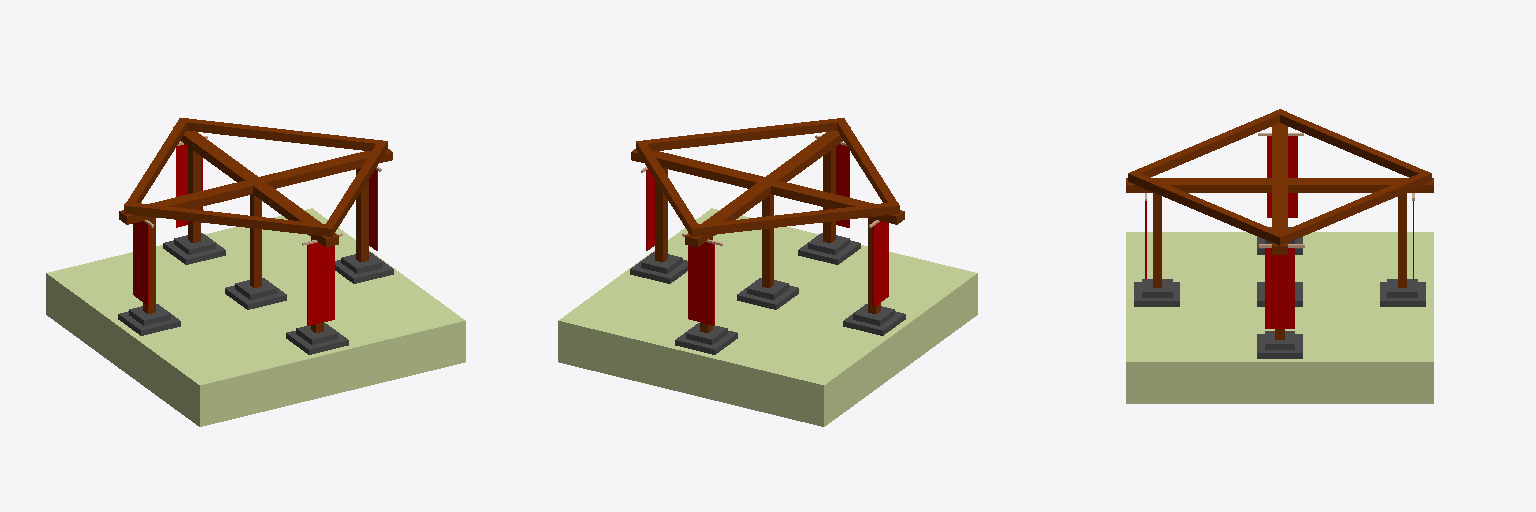
Rendered from Market.obj.
3 renders of one model, left to right at view 1: azimuth 30°, elevation 25°; view 2: azimuth 150°, elevation 25°; view 3: azimuth 270°, elevation 25°, orthographic.
Visible parts, largest first — view 1: Tilebase104, Box667, Box666, Box669, Box668, Box678, Box671, Box670, Box676, Box662, Box661, Box664 (+9 smaller); view 2: Tilebase104, Box667, Box666, Box670, Box671, Box672, Box676, Box668, Box669, Box662, Box661, Box665 (+8 smaller); view 3: Tilebase104, Box666, Box674, Box671, Box668, Box669, Box670, Box667, Box676, Box665, Box664, Box687 (+2 smaller).
Boxes of the visible parts, <box> form: Tilebase104: <box>46,208,465,426</box>; Box667: <box>119,149,392,224</box>; Box666: <box>173,126,338,247</box>; Box669: <box>124,202,333,236</box>; Box668: <box>179,118,384,150</box>; Box678: <box>307,242,334,325</box>; Box671: <box>324,141,387,236</box>; Box670: <box>124,118,188,214</box>; Box676: <box>133,221,148,305</box>; Box662: <box>356,168,368,261</box>; Box661: <box>250,194,261,287</box>; Box664: <box>188,147,200,242</box>; Tilebase104: <box>558,208,977,426</box>; Box667: <box>631,149,904,224</box>; Box666: <box>685,127,850,247</box>; Box670: <box>691,202,898,235</box>; Box671: <box>636,118,842,151</box>; Box672: <box>688,242,714,325</box>; Box676: <box>872,221,888,307</box>; Box668: <box>636,140,700,236</box>; Box669: <box>836,118,899,214</box>; Box662: <box>655,168,667,261</box>; Box661: <box>762,194,773,287</box>; Box665: <box>823,147,835,242</box>; Tilebase104: <box>1126,232,1433,403</box>; Box666: <box>1126,178,1433,192</box>; Box674: <box>1265,248,1294,328</box>; Box671: <box>1128,171,1286,245</box>; Box668: <box>1276,171,1431,242</box>; Box669: <box>1129,109,1286,176</box>; Box670: <box>1276,110,1430,177</box>; Box667: <box>1272,123,1287,254</box>; Box676: <box>1267,136,1297,217</box>; Box665: <box>1153,193,1161,287</box>; Box664: <box>1398,193,1406,287</box>; Box687: <box>1257,334,1302,358</box>.
Size of the model in its own units: 10 by 5.94 by 10.